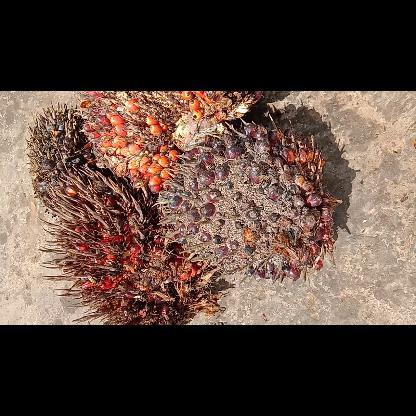Kurang masak: (154, 117, 338, 282)
TBS abnormal: (28, 103, 140, 221)
TBS masak: (76, 90, 257, 192)
Terlalu masak: (44, 168, 219, 324)
